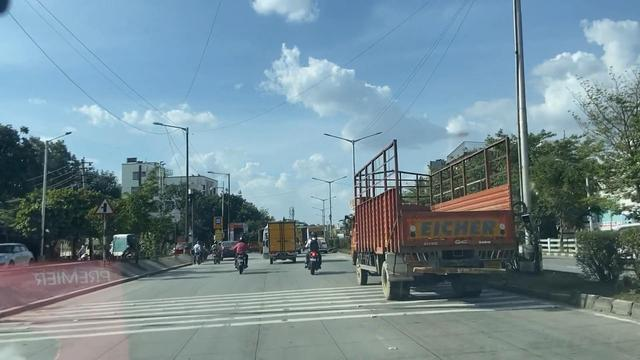HMV: (352, 157, 511, 297)
LMV: (305, 231, 321, 276)
SpeedBump: (51, 286, 418, 321)
